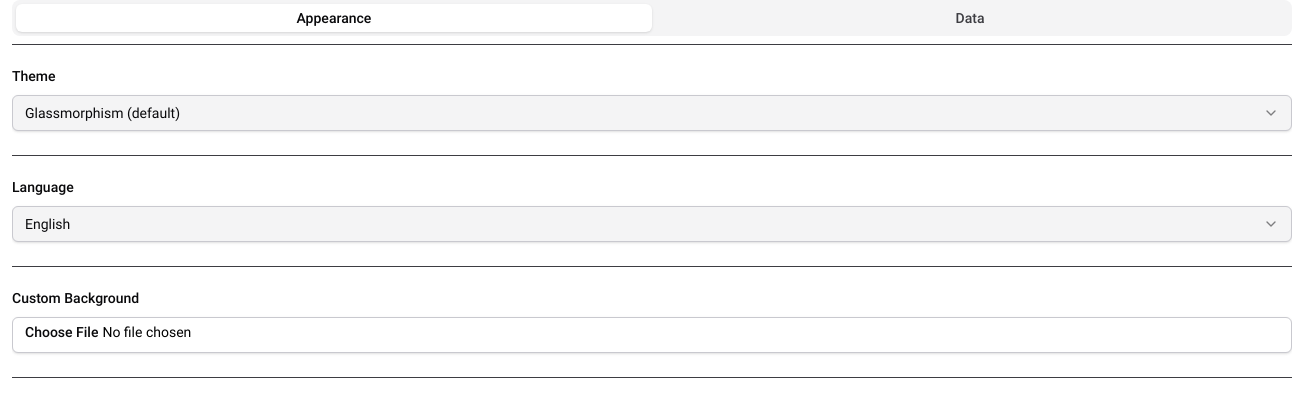
Test: Settings › should switch back to Appearance tab when clicked
Note: First click Data tab
Click the tab with test id "settings-tab-data" at point(970, 18), box [652, 4, 1288, 32]
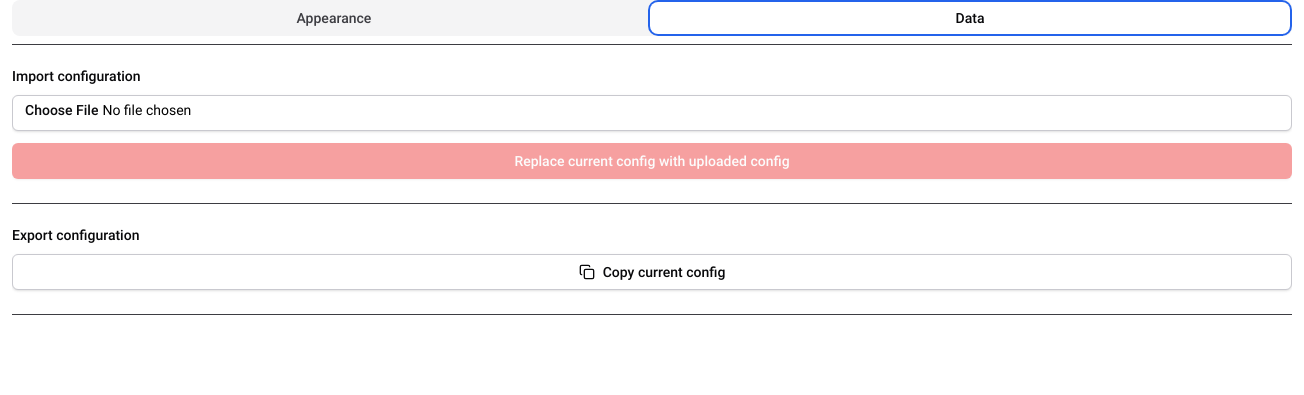
Note: Then click Appearance tab
Click the tab with test id "settings-tab-appearance" at point(334, 18), box [16, 4, 652, 32]
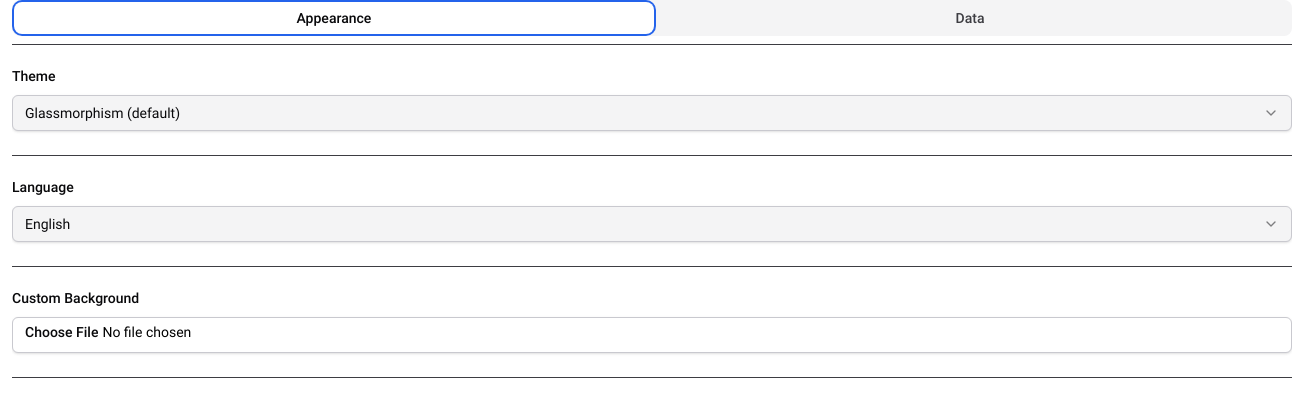
Now the text "Theme" is shown, box [12, 68, 56, 84]
